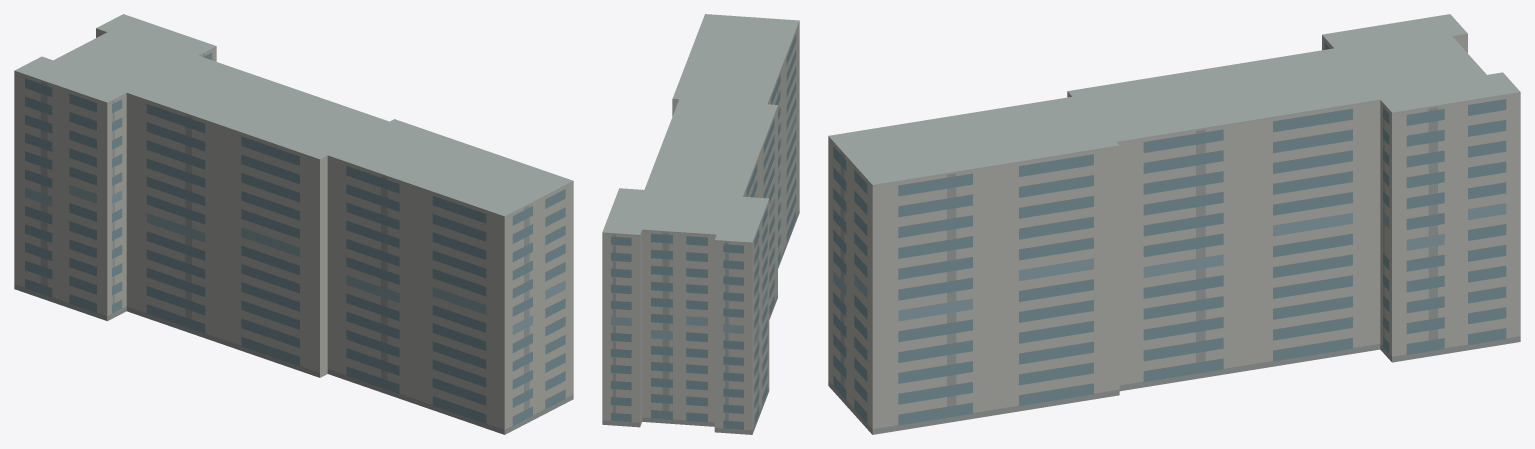
File: residential-0edaa2b9-1c9e-438e-a905-b3935f83ab4a.glb
3 views of the same model, side by side, from view 1: azimuth 30°, elevation 25°; view 2: azimuth 150°, elevation 25°; view 3: azimuth 270°, elevation 25° (orthographic). The views are drawn at different scales.
Parts seen in each view (by area): view 1: residential-0edaa2b9-1c9e-438e-a905-b3935f83ab4a.tmp; view 2: residential-0edaa2b9-1c9e-438e-a905-b3935f83ab4a.tmp; view 3: residential-0edaa2b9-1c9e-438e-a905-b3935f83ab4a.tmp.
Boxes of the visible parts, left/top/right/bottom form: residential-0edaa2b9-1c9e-438e-a905-b3935f83ab4a.tmp: left=14, top=14, right=573, bottom=434; residential-0edaa2b9-1c9e-438e-a905-b3935f83ab4a.tmp: left=602, top=14, right=799, bottom=434; residential-0edaa2b9-1c9e-438e-a905-b3935f83ab4a.tmp: left=828, top=14, right=1520, bottom=434.
Size of the model in its own units: 48.43 by 33 by 82.86.
